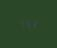five: (25, 20, 30, 27)
seven: (18, 20, 23, 28)
three: (31, 19, 36, 27)
